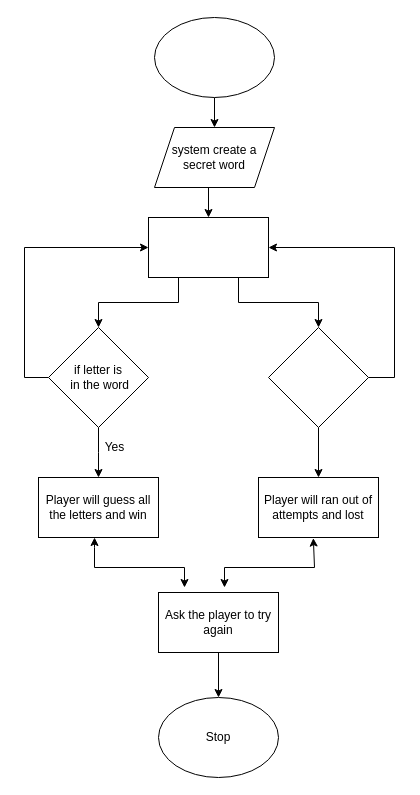
The diagram is 420 pixels wide and 795 high, and some of its shapes have lost their labels. Here are the shapes that lost their labels. From the top down, the box of each, then its label:
(154, 16, 274, 98): Start
(148, 216, 268, 278): Ask player to guess a letter
(268, 326, 368, 428): if letter is not in the word
